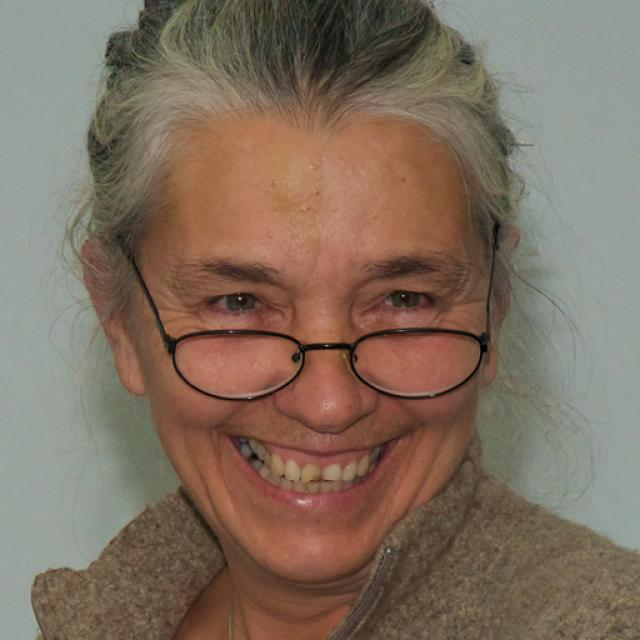Acne: (307, 178, 329, 198), (294, 201, 318, 218), (302, 158, 322, 173), (265, 177, 284, 192)
